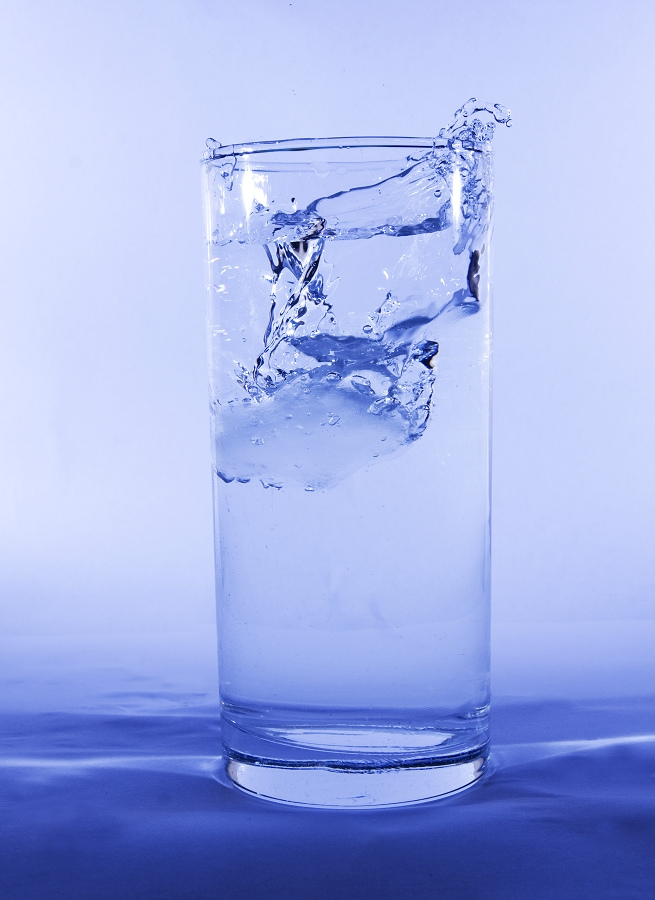glass of water: (184, 122, 518, 812)
